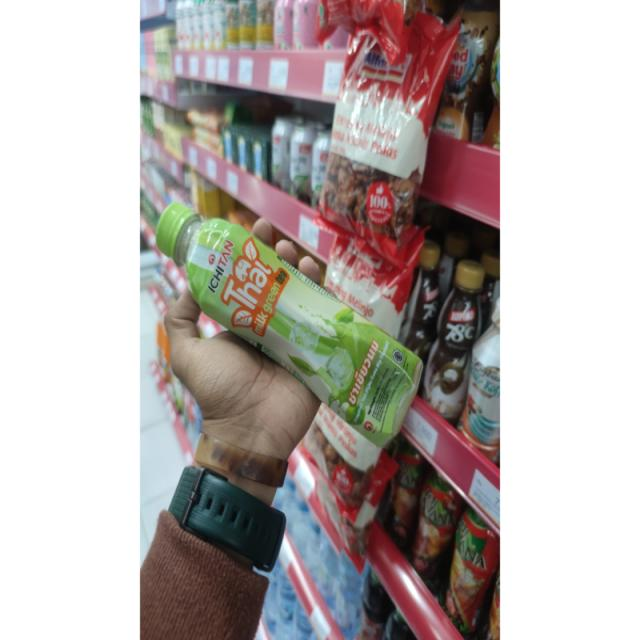botol: (146, 173, 444, 485)
